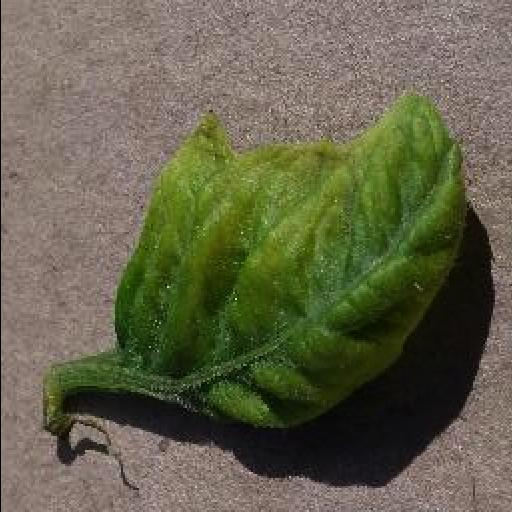disease_tomato: (112, 86, 468, 432)
